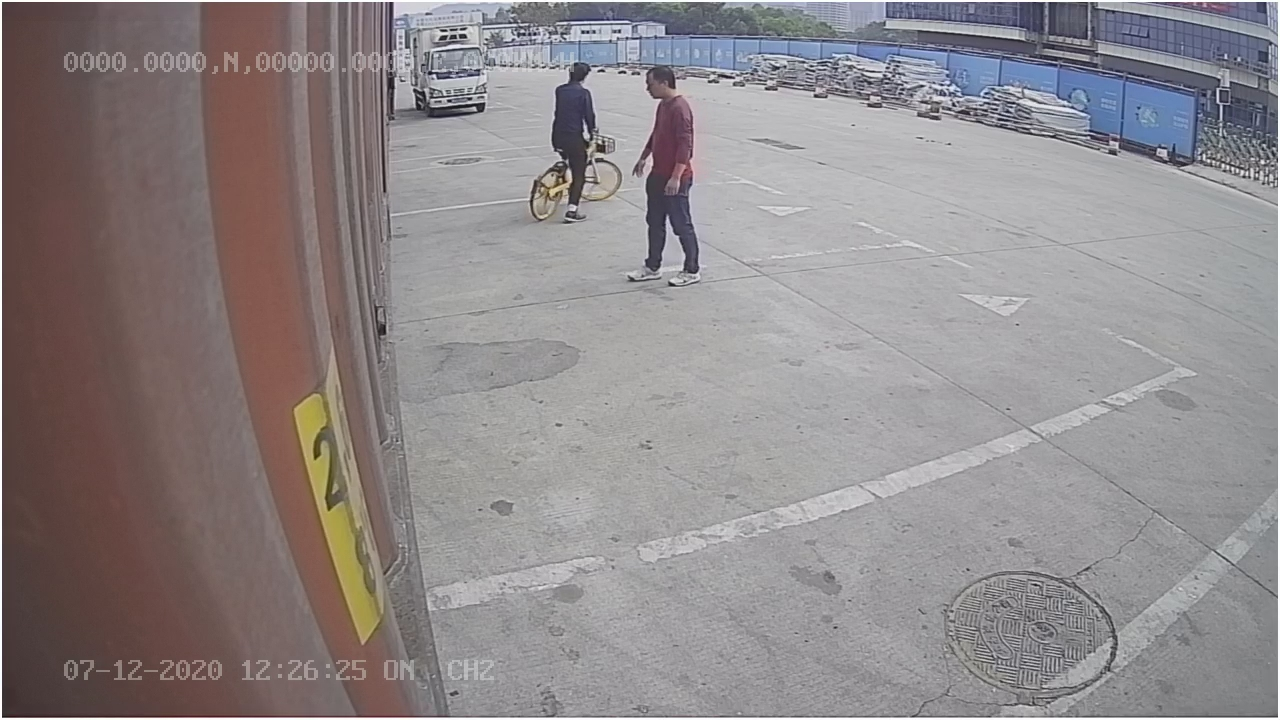person: (623, 62, 711, 288)
